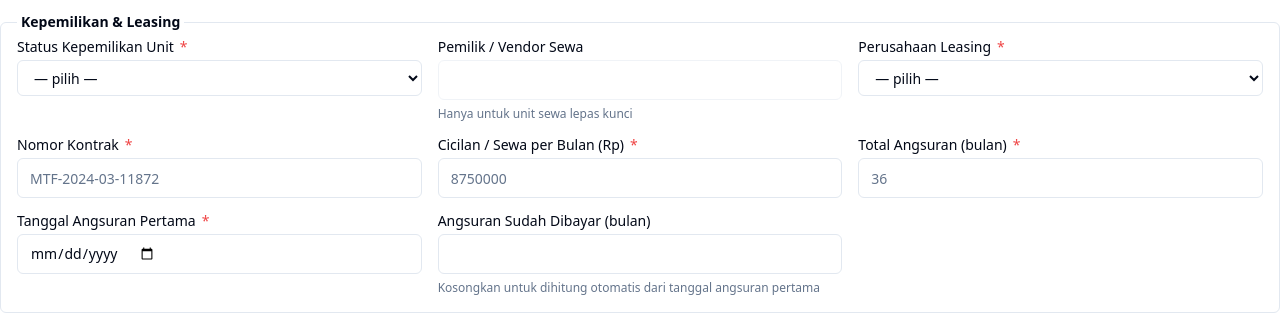
LeaseSection › hides the four contract inputs once the unit names no financier
Select "Lunas" in the dropdown labelled "Perusahaan Leasing *". click: x=1061, y=78
box: [858,60,1263,96]
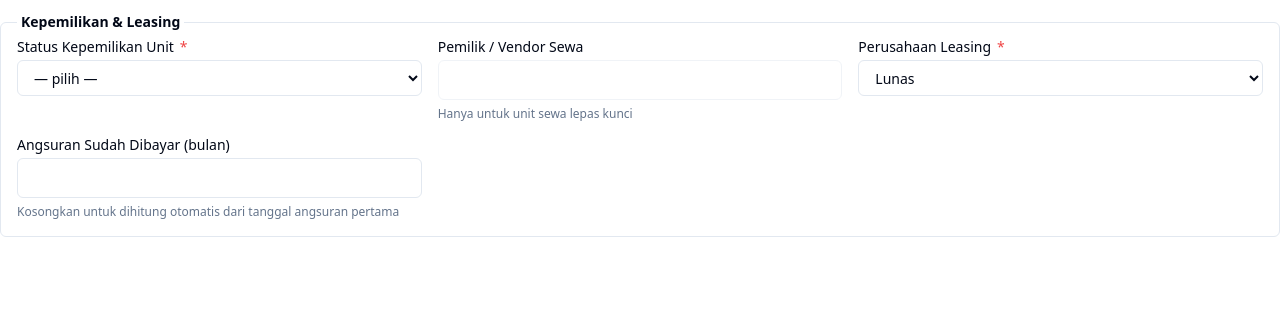
expect the label labelled "Nomor Kontrak" is gone: met
expect the label labelled "Cicilan" is gone: met
expect the label labelled "Total Angsuran" is gone: met
